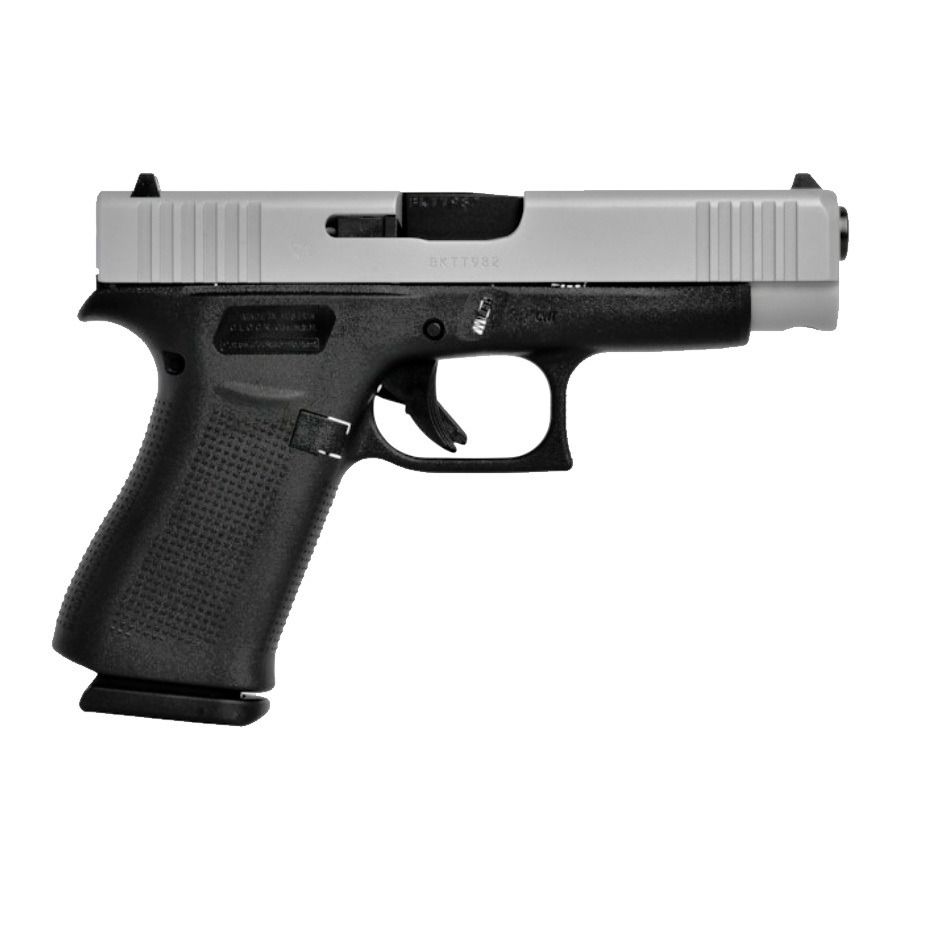gun: (51, 168, 857, 735)
